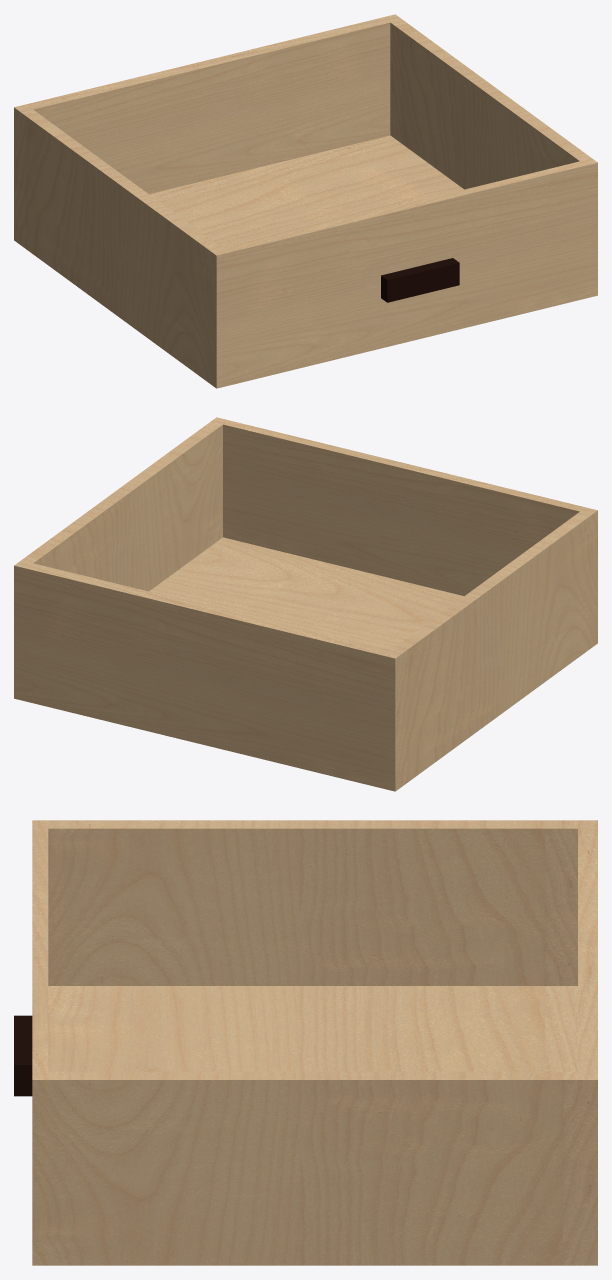
Rendered from drawer plz work.FBX.
3 renders of one model, top to bottom at view 1: azimuth 30°, elevation 25°; view 2: azimuth 150°, elevation 25°; view 3: azimuth 270°, elevation 25°, orthographic. The views are drawn at different scales.
Parts seen in each view (by area): view 1: Box001, Box002; view 2: Box001; view 3: Box001, Box002.
Part boxes in pixels (left/top/right/bottom): Box001: left=14, top=14, right=597, bottom=388; Box002: left=381, top=258, right=459, bottom=302; Box001: left=14, top=417, right=597, bottom=791; Box001: left=32, top=820, right=597, bottom=1265; Box002: left=14, top=1015, right=32, bottom=1096.
Size of the model in its own units: 241 by 80.49 by 229.
Materials: 2 (1 with a texture image).
